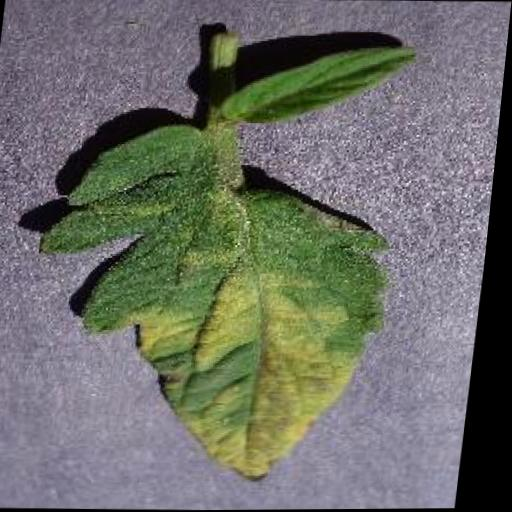Leaf Mold: (24, 118, 408, 482)
